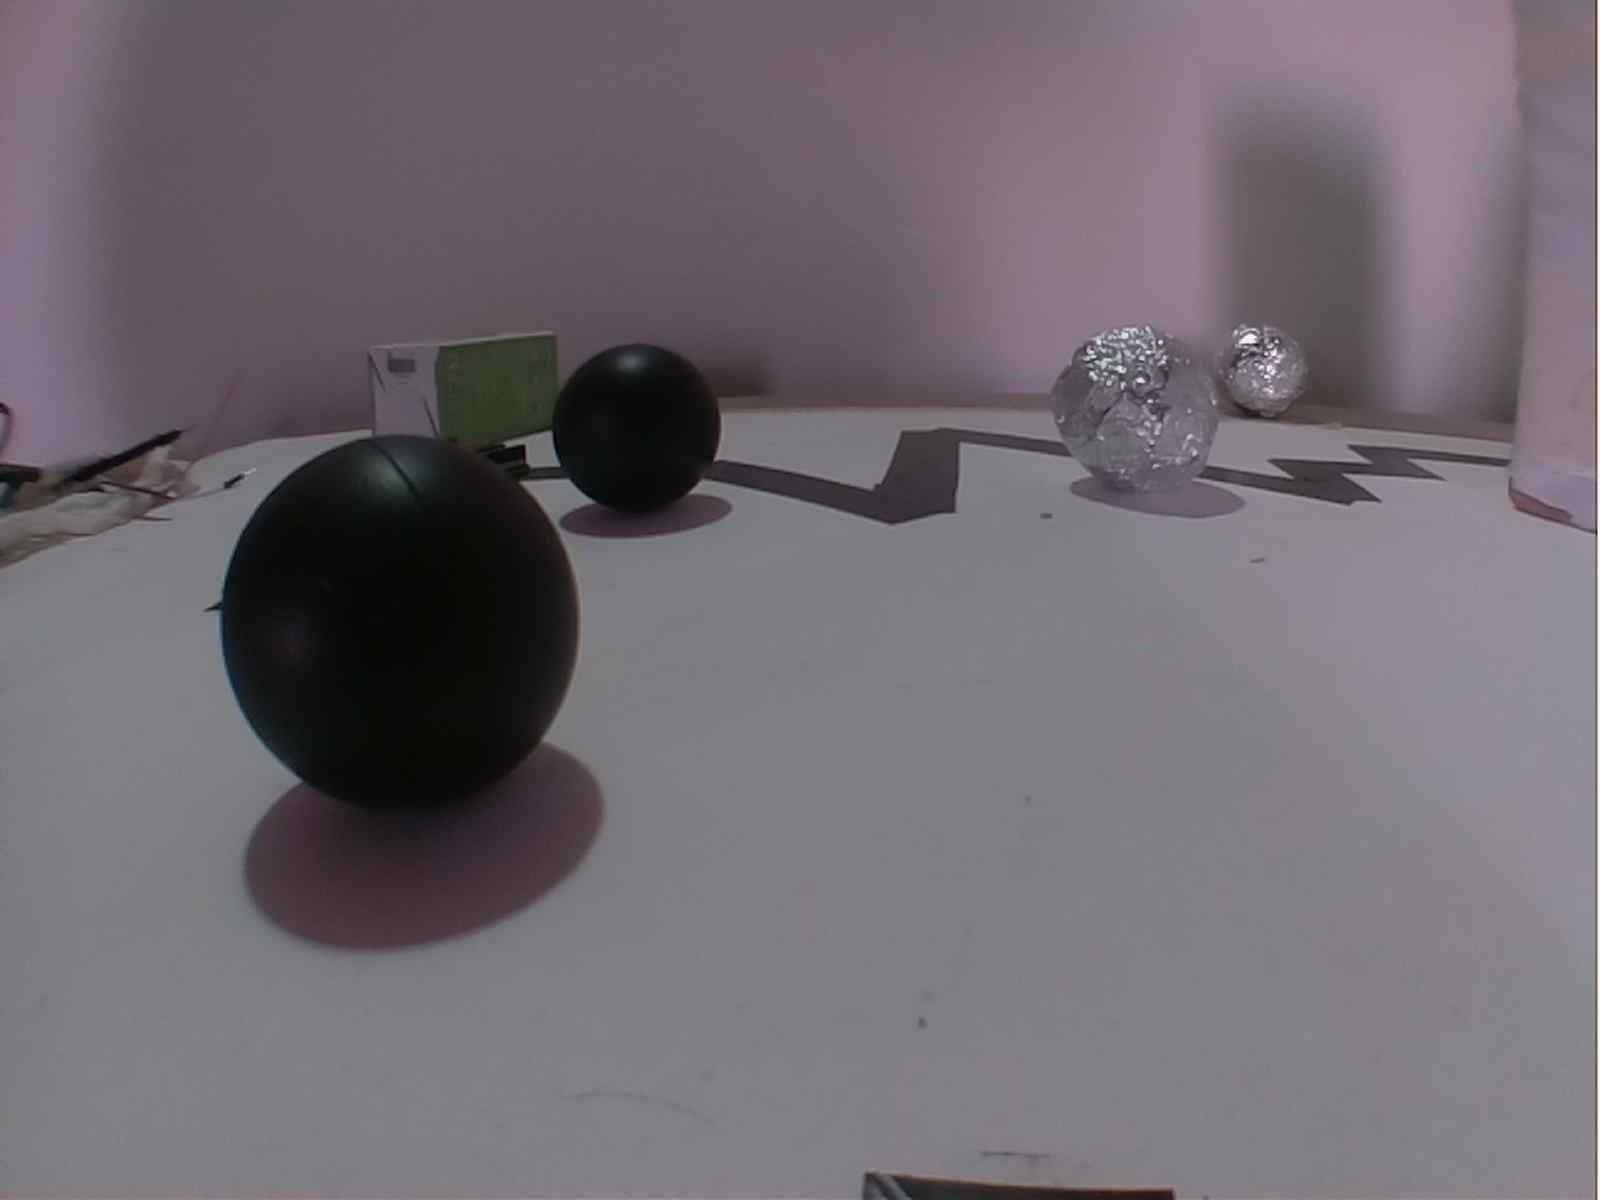bianca: (1043, 319, 1223, 495), (1217, 318, 1311, 422)
nera: (212, 429, 587, 833), (543, 342, 727, 524)
